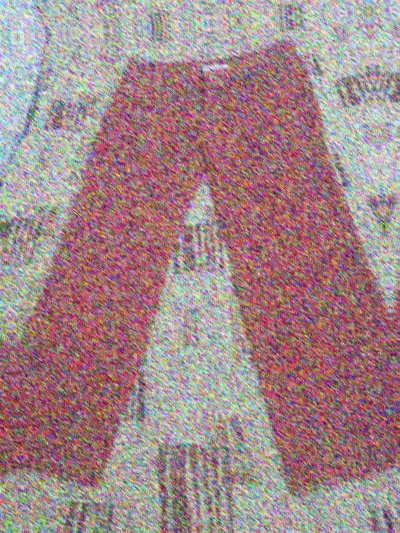Pants: (0, 37, 400, 529), (371, 10, 400, 502), (0, 66, 19, 533), (0, 0, 367, 12)
